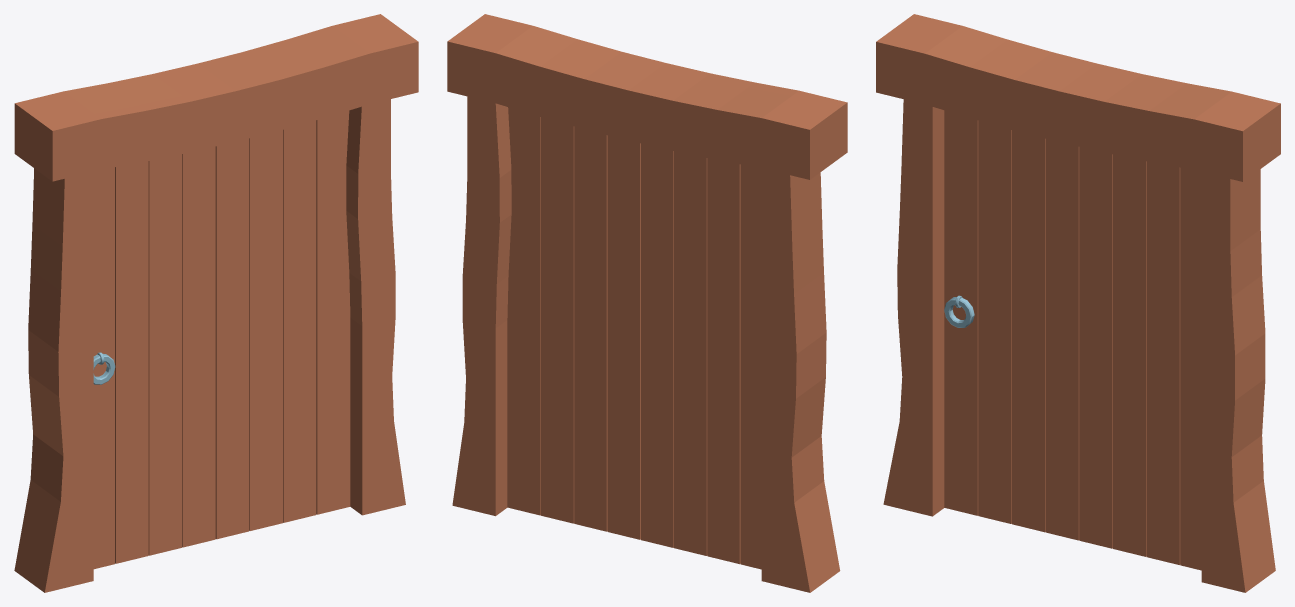
File: Door2.fbx
The picture shows the model from 3 angles, left to right: view 1: azimuth 30°, elevation 25°; view 2: azimuth 150°, elevation 25°; view 3: azimuth 330°, elevation 25°; orthographic projection.
Parts seen in each view (by area): view 1: Circle.016; view 2: Circle.016; view 3: Circle.016.
Boxes of the visible parts, x1,y1,x2,y2 form: Circle.016: [14, 14, 418, 592]; Circle.016: [447, 14, 847, 592]; Circle.016: [876, 14, 1280, 592].
Bounding box in the file's own units: 112 × 137 × 20.08.
Materials: 1 (1 with a texture image).
